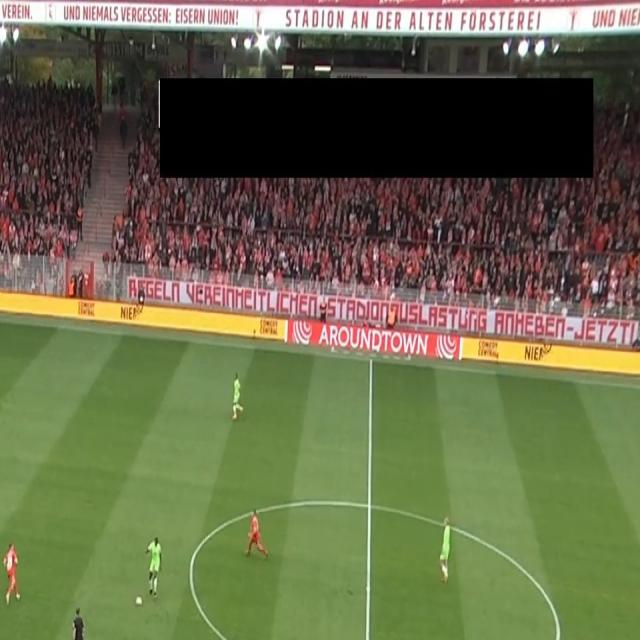ball: (134, 593, 144, 608)
